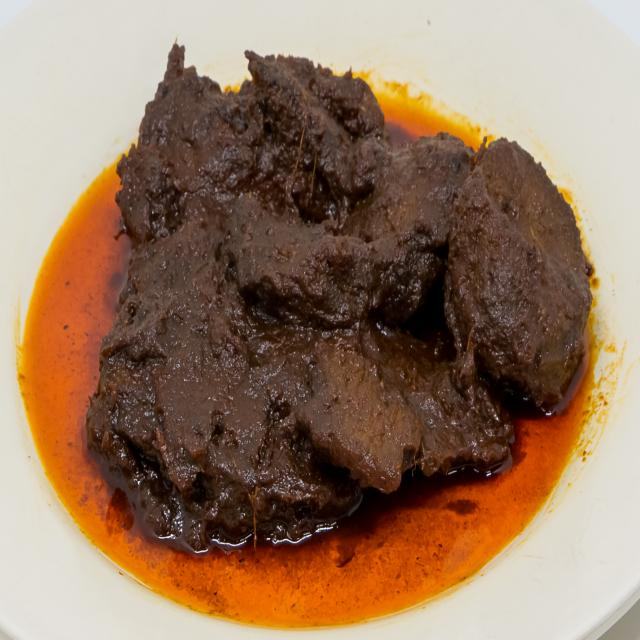Rendang: (80, 26, 609, 558)
